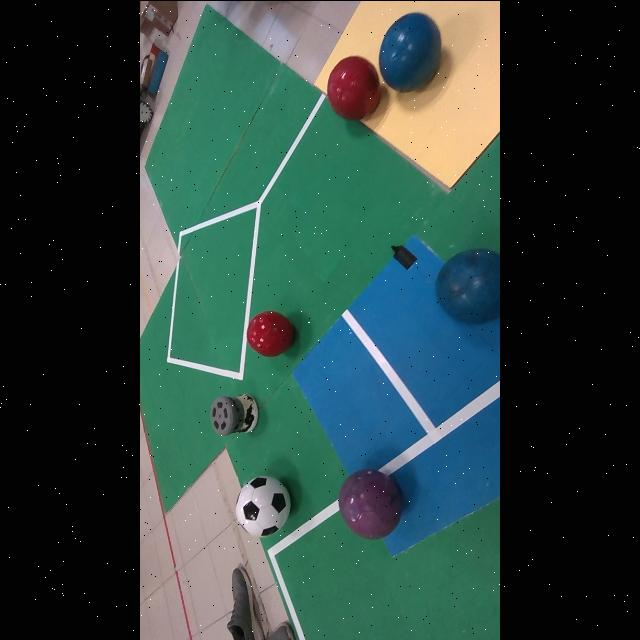B: (436, 248, 500, 324), (380, 12, 440, 91)
P: (339, 469, 402, 539)
R: (327, 55, 381, 120), (246, 309, 295, 356)
